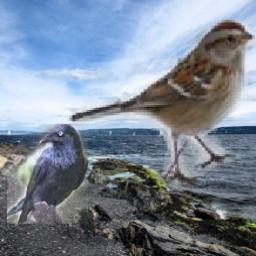Crow: (8, 125, 89, 225)
Sparrow: (68, 12, 256, 187)
